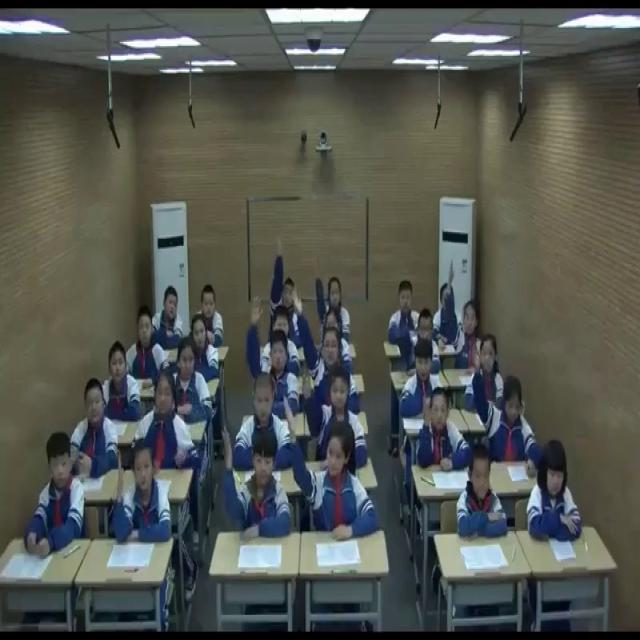focused: (26, 429, 88, 558), (235, 376, 298, 472), (524, 438, 580, 546), (137, 369, 195, 471), (65, 375, 120, 479), (456, 447, 509, 549), (400, 338, 447, 425), (172, 336, 215, 430), (127, 306, 169, 386), (101, 339, 144, 417), (476, 333, 512, 420), (387, 280, 426, 344), (187, 314, 222, 376), (195, 283, 225, 347), (152, 286, 184, 345)
raising_hand: (283, 396, 379, 540), (292, 289, 366, 403), (221, 424, 291, 539), (472, 343, 538, 459), (299, 361, 372, 465), (247, 292, 303, 409), (114, 441, 175, 545), (412, 386, 473, 475), (441, 255, 484, 368), (399, 294, 438, 371), (271, 236, 301, 335), (311, 258, 350, 334)
